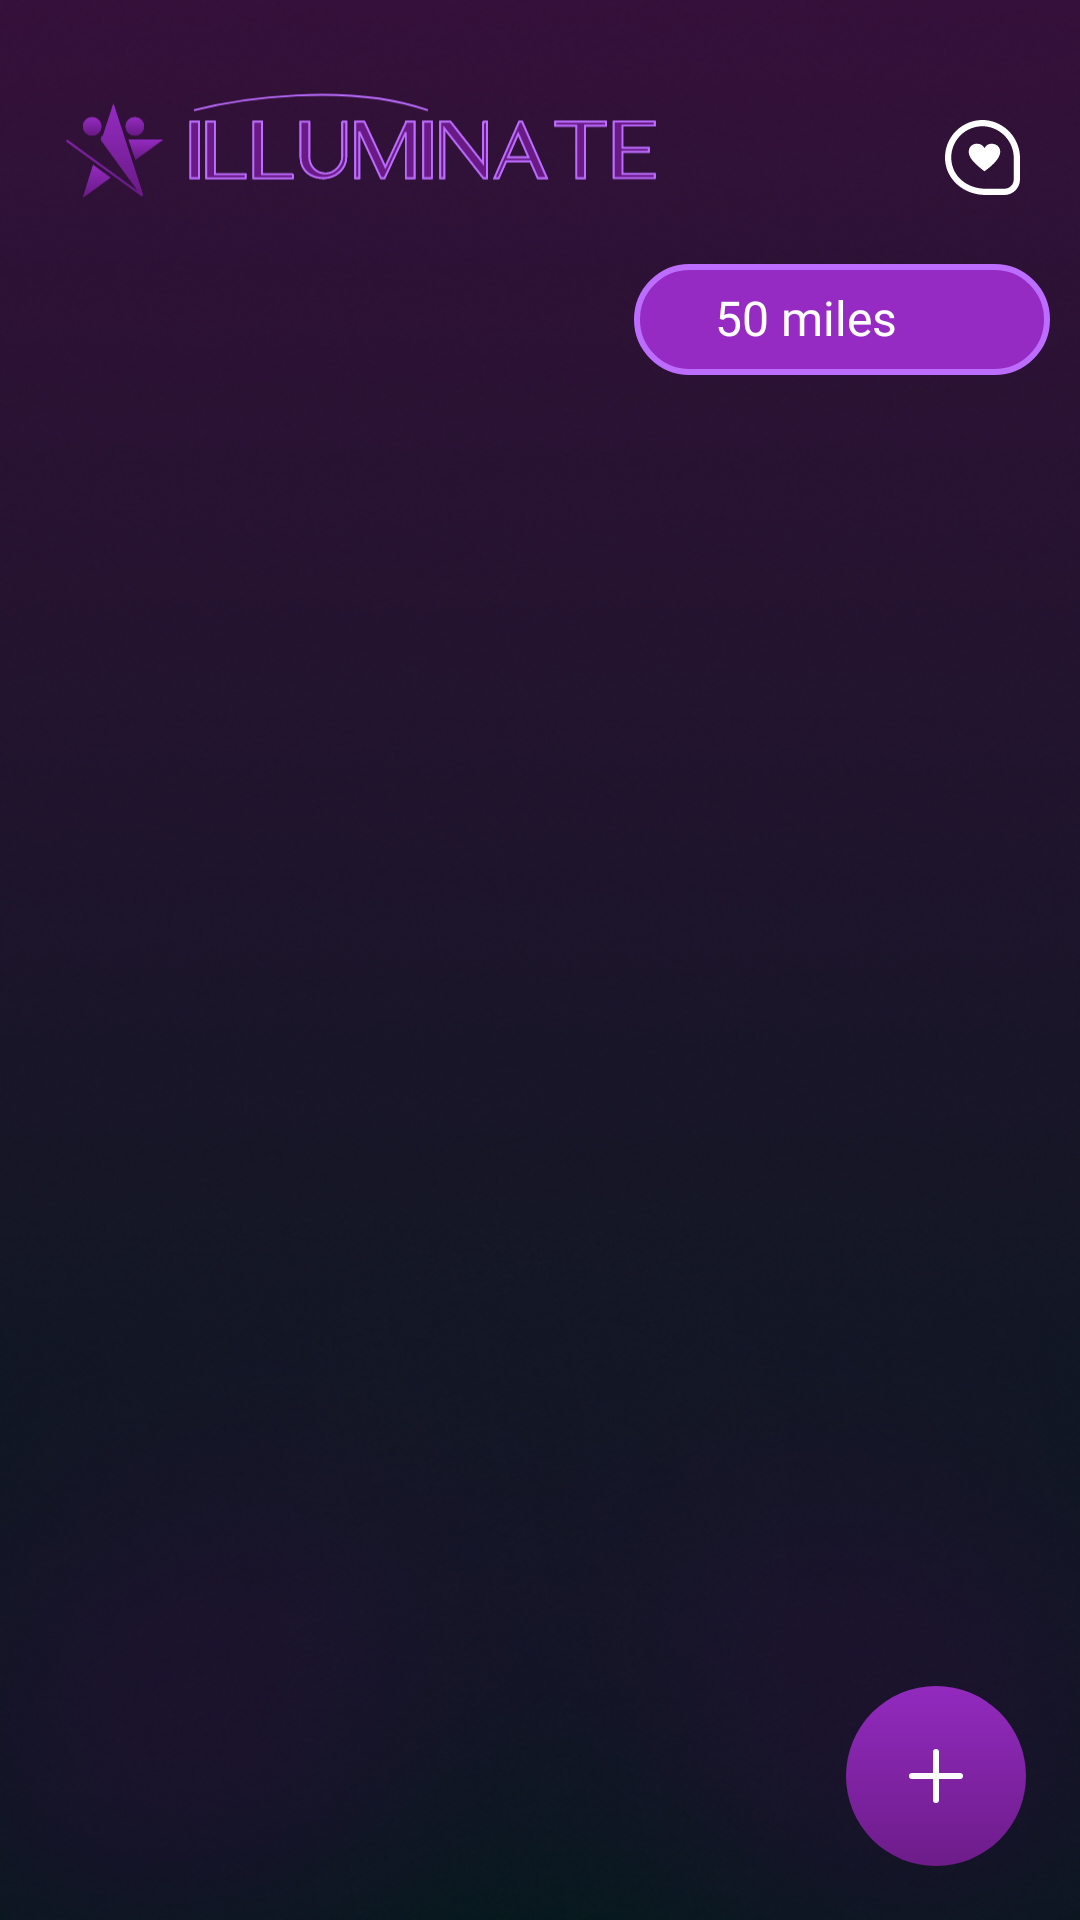

Icon click points for this 1080 × 1920 phone screenshot, format point (x, y):
chat: point (982, 157)
